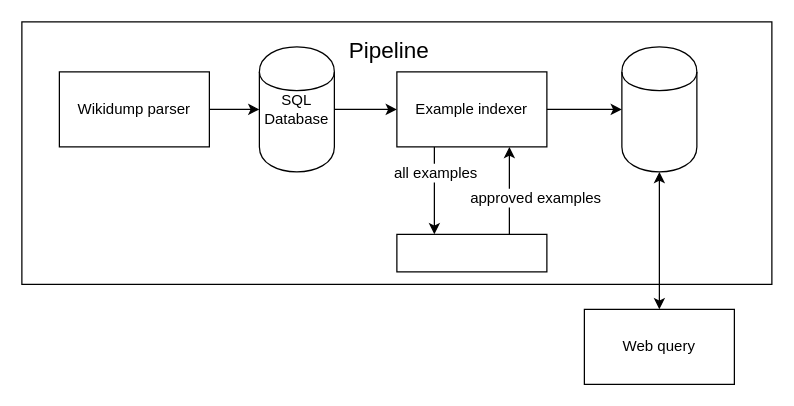
The diagram is 794 pixels wide and 406 high, and some of its shapes have lost their labels. The centre of each missing label's shape, as x and y in pixels:
"index" goes at point 659,109.
"Whitelist" goes at point 471,252.
